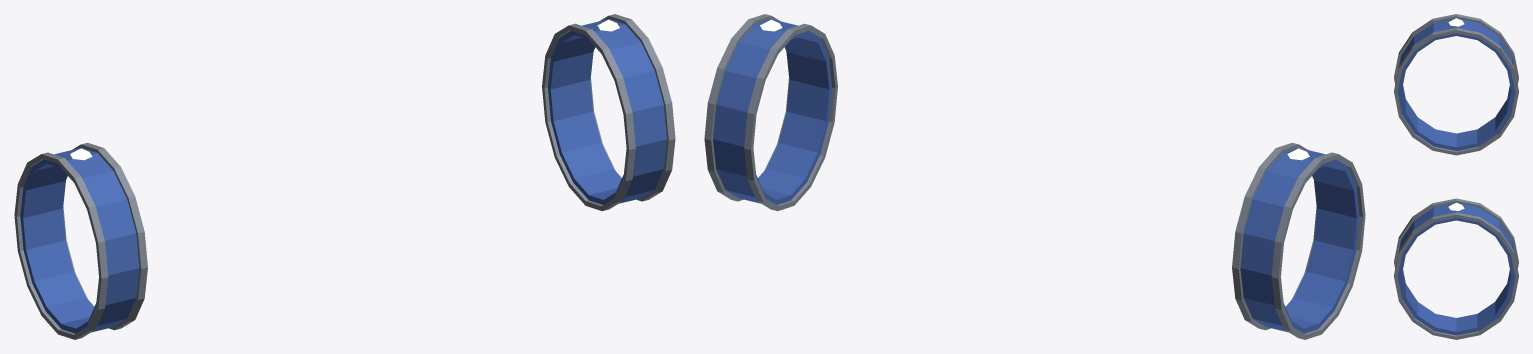
File: armor_knight_arms_rare_human.glb
The picture shows the model from 3 angles, left to right: view 1: azimuth 30°, elevation 25°; view 2: azimuth 150°, elevation 25°; view 3: azimuth 270°, elevation 25°; orthographic projection. The views are drawn at different scales.
Visible parts, largest first — view 1: armor_knight_arms_rare_human__lowerarm_l, armor_knight_arms_rare_human__lowerarm_r; view 2: armor_knight_arms_rare_human__lowerarm_l, armor_knight_arms_rare_human__lowerarm_r; view 3: armor_knight_arms_rare_human__lowerarm_l, armor_knight_arms_rare_human__lowerarm_r.
Part boxes in pixels (x1,y1,x2,y2): armor_knight_arms_rare_human__lowerarm_l: [542, 14, 675, 211]; armor_knight_arms_rare_human__lowerarm_r: [14, 142, 147, 339]; armor_knight_arms_rare_human__lowerarm_l: [704, 14, 837, 211]; armor_knight_arms_rare_human__lowerarm_r: [1232, 142, 1365, 339]; armor_knight_arms_rare_human__lowerarm_l: [1394, 198, 1518, 339]; armor_knight_arms_rare_human__lowerarm_r: [1394, 14, 1518, 155].
Size of the model in its own units: 118 by 35.5 by 31.07.
